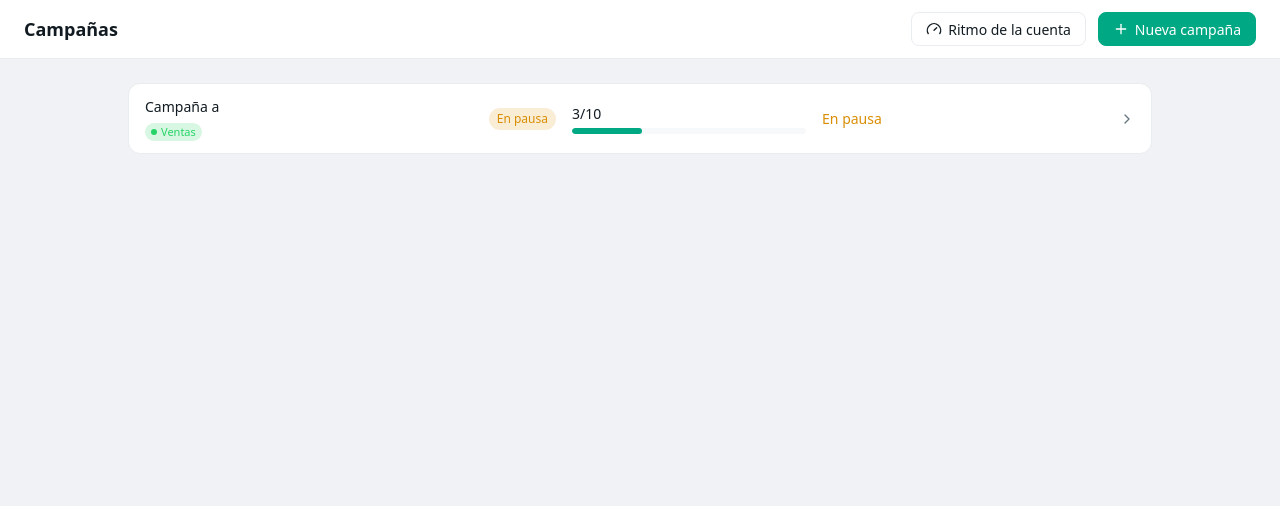
Scenario: detalle de campaña › cancelar y eliminar piden confirmación
Click the button with test id "campaign-row".
click(182, 106)  # box top-left (128, 83), bottom-right (1152, 154)
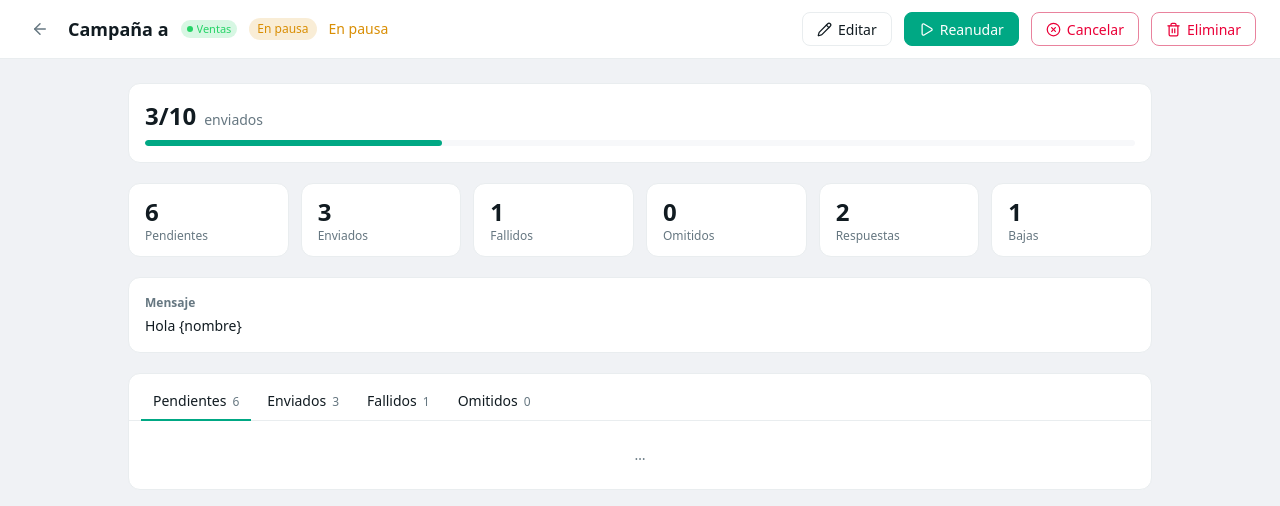
Expected: the text "3/10" is shown, top-left (145, 100), bottom-right (196, 132)
Click the button "Cancelar".
click(1085, 29)  # box top-left (1031, 12), bottom-right (1139, 46)
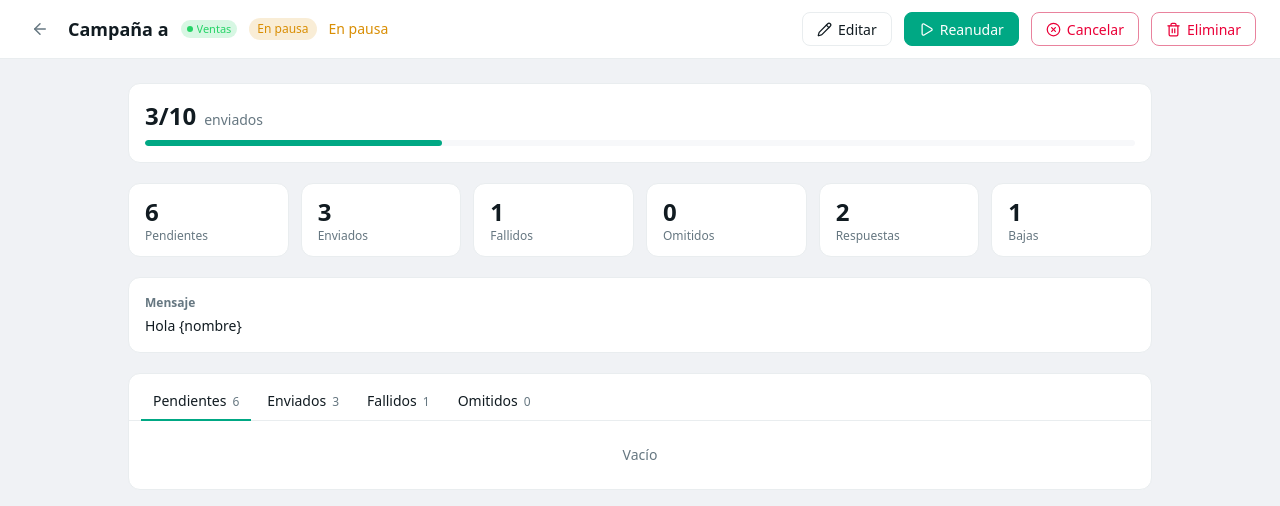
Click the button "Eliminar".
click(1204, 29)  # box top-left (1151, 12), bottom-right (1256, 46)
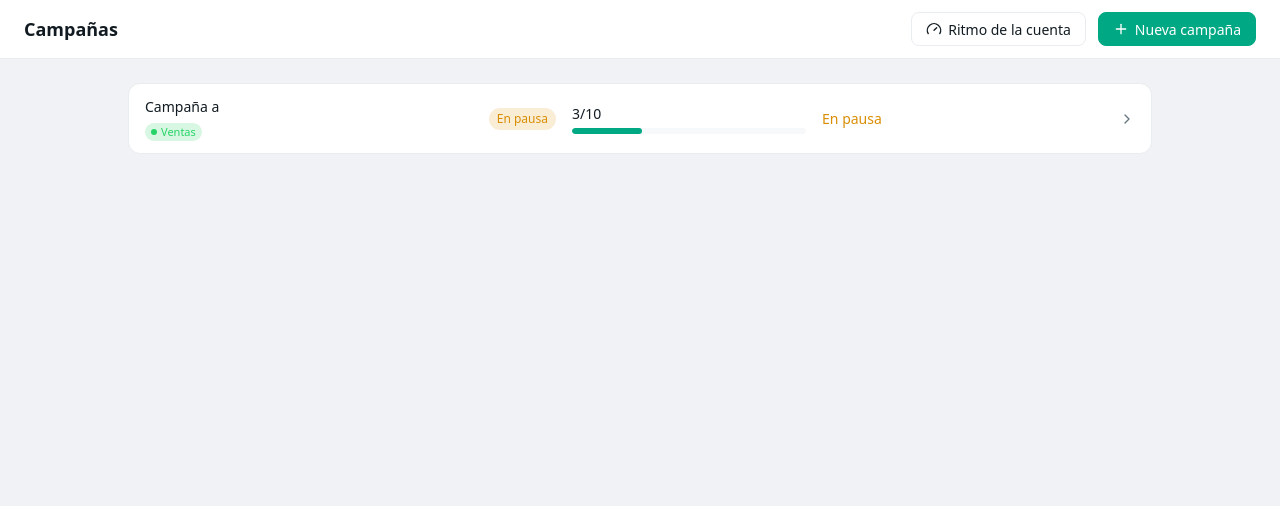
Expected: the heading "Campañas" is shown, top-left (24, 17), bottom-right (118, 41)
